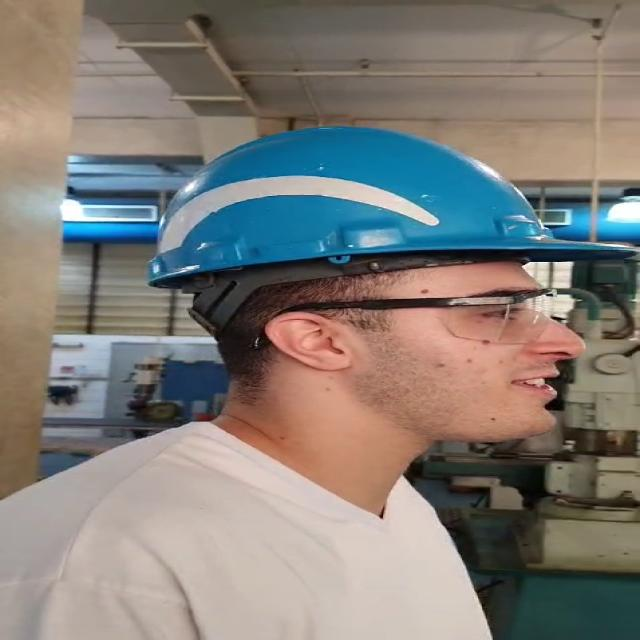oculos-epi: (277, 289, 553, 344)
